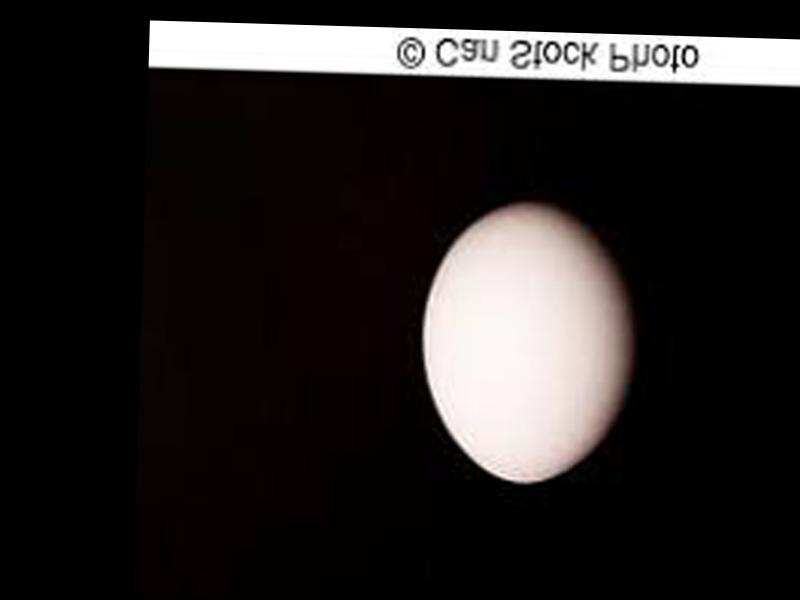Eggs: (418, 194, 636, 486)
